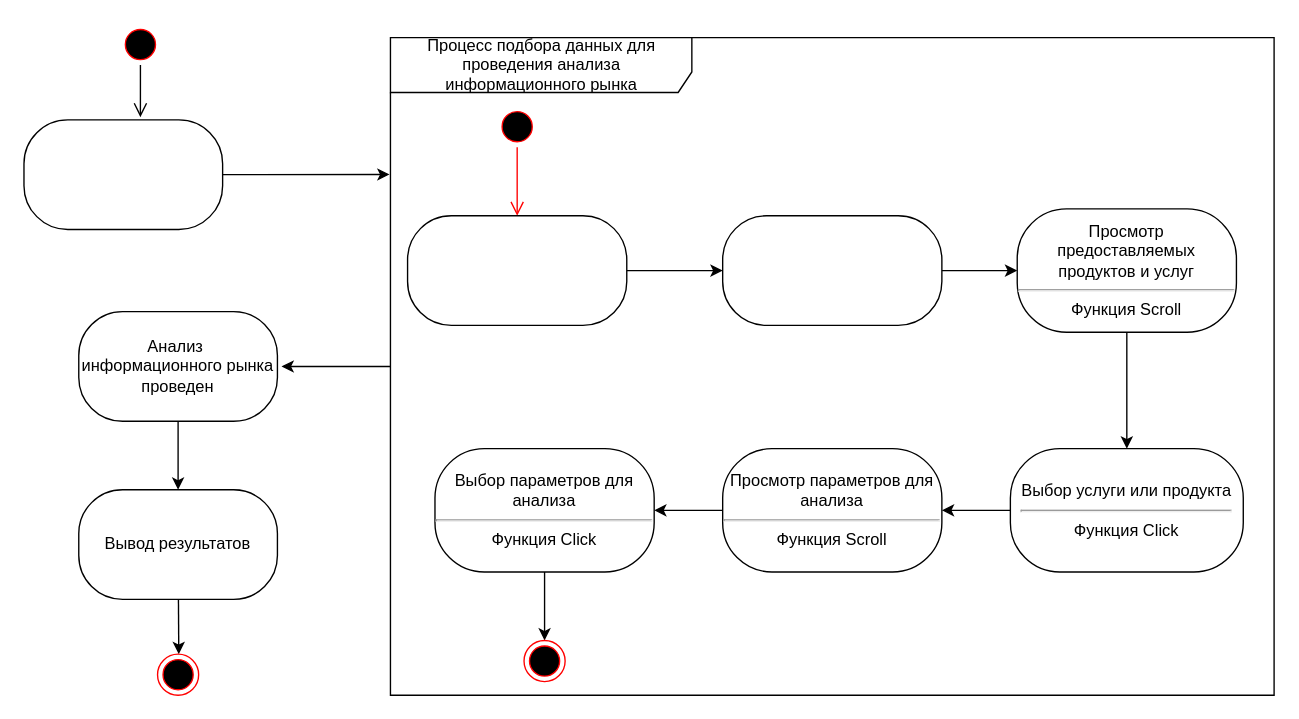
The diagram is 1299 pixels wide and 719 high, and some of its shapes have lost their labels. Each missing label, with the centre of its shape:
"Выбор статуса информационного агентства Функция Click" belongs at [831,269].
"Выбор типа информационного агентства Функция Click" belongs at [516,269].
"Необходимость провести анализ информационного рынка" belongs at [123,174].
"Проведение анализа рынка" belongs at [331,329].
